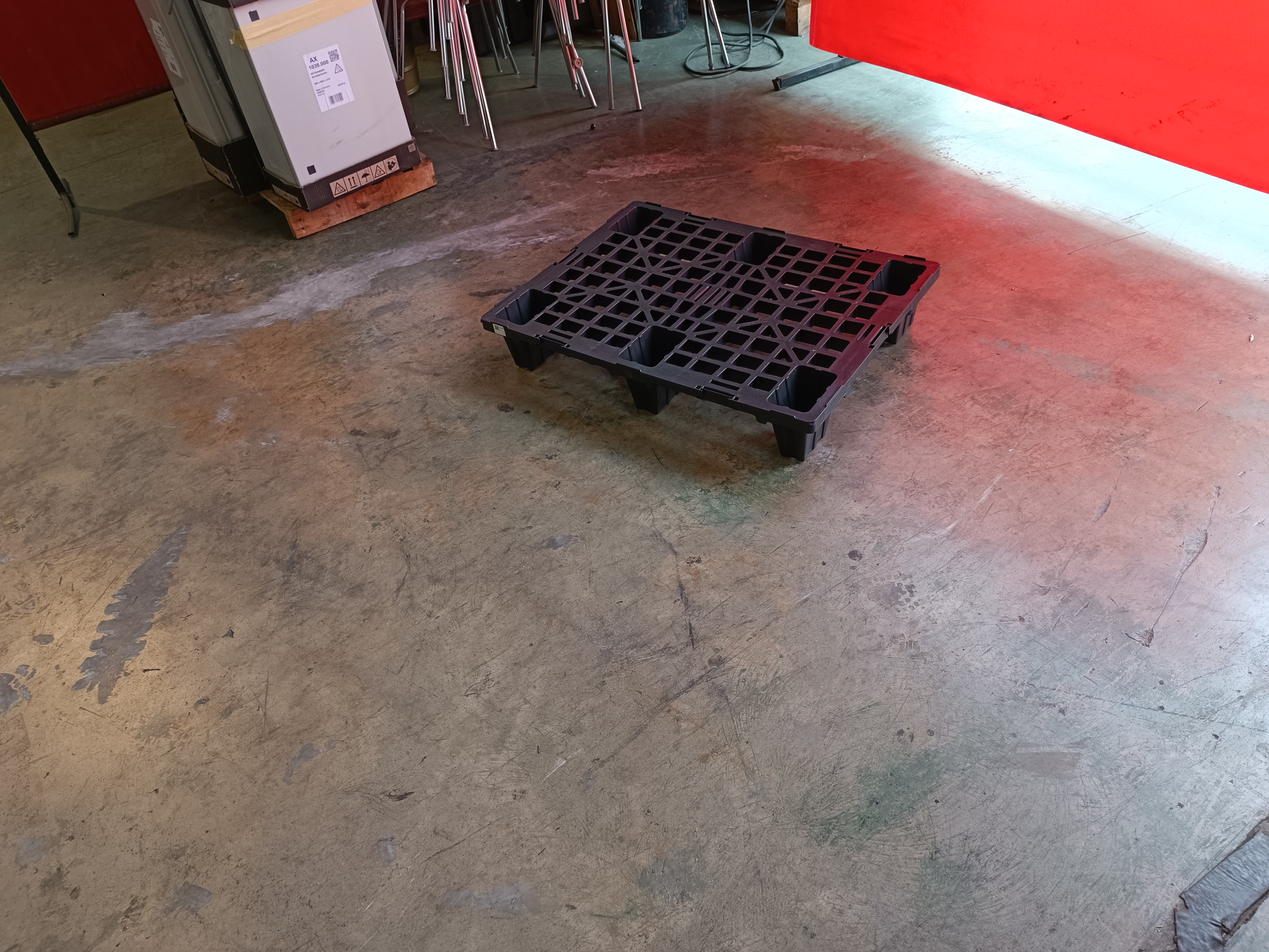block: (768, 411, 816, 469), (627, 372, 665, 420), (504, 334, 538, 373)
front: (482, 322, 825, 485)
hole pallet: (666, 387, 777, 457), (542, 341, 626, 401)
